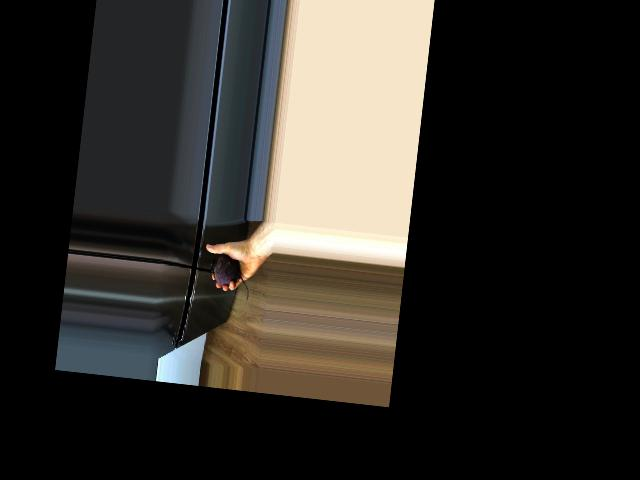beet: (207, 253, 252, 301)
